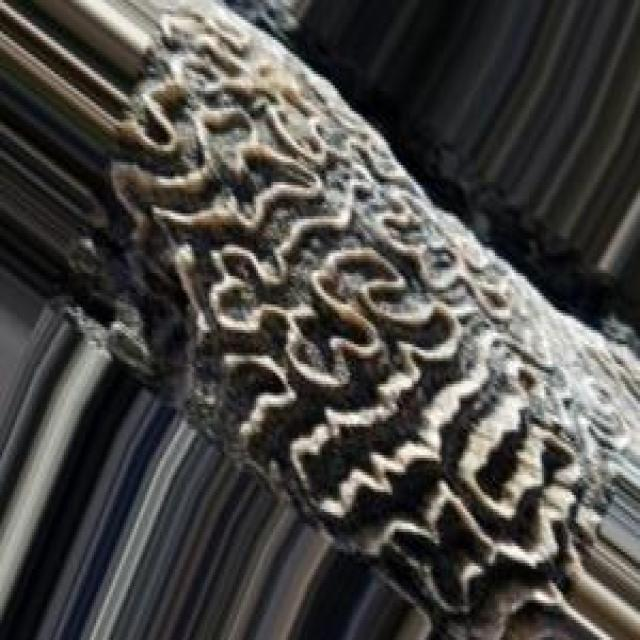Healthy: (67, 1, 639, 638)
